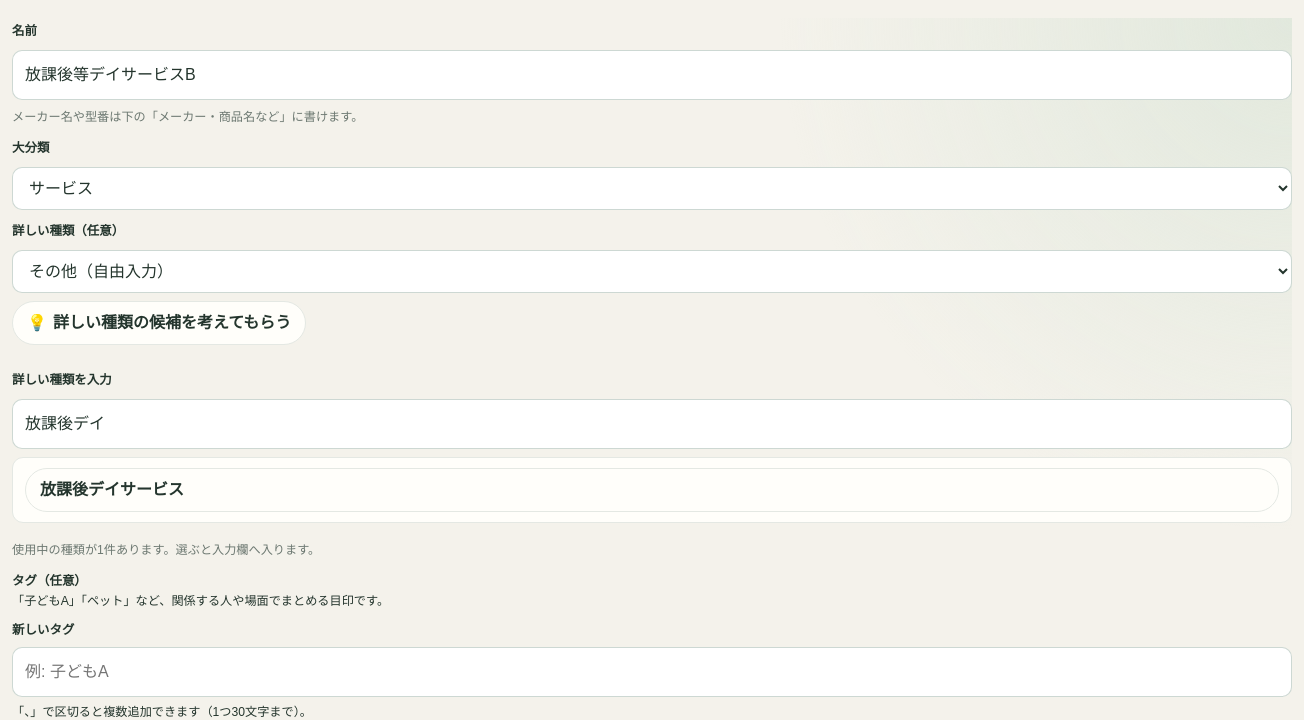
登録・編集の自由入力(詳しい種類)候補(Issue #288) › 編集画面では保存済みの自由入力を初期値にしたまま、候補から選び直せる
The image size is (1304, 720).
Check: the field labelled "詳しい種類を入力" holds "放課後デイ", box left=12, top=399, right=1292, bottom=448
Click the button "放課後デイサービス": {"x": 112, "y": 489} left=25, top=468, right=1279, bottom=512
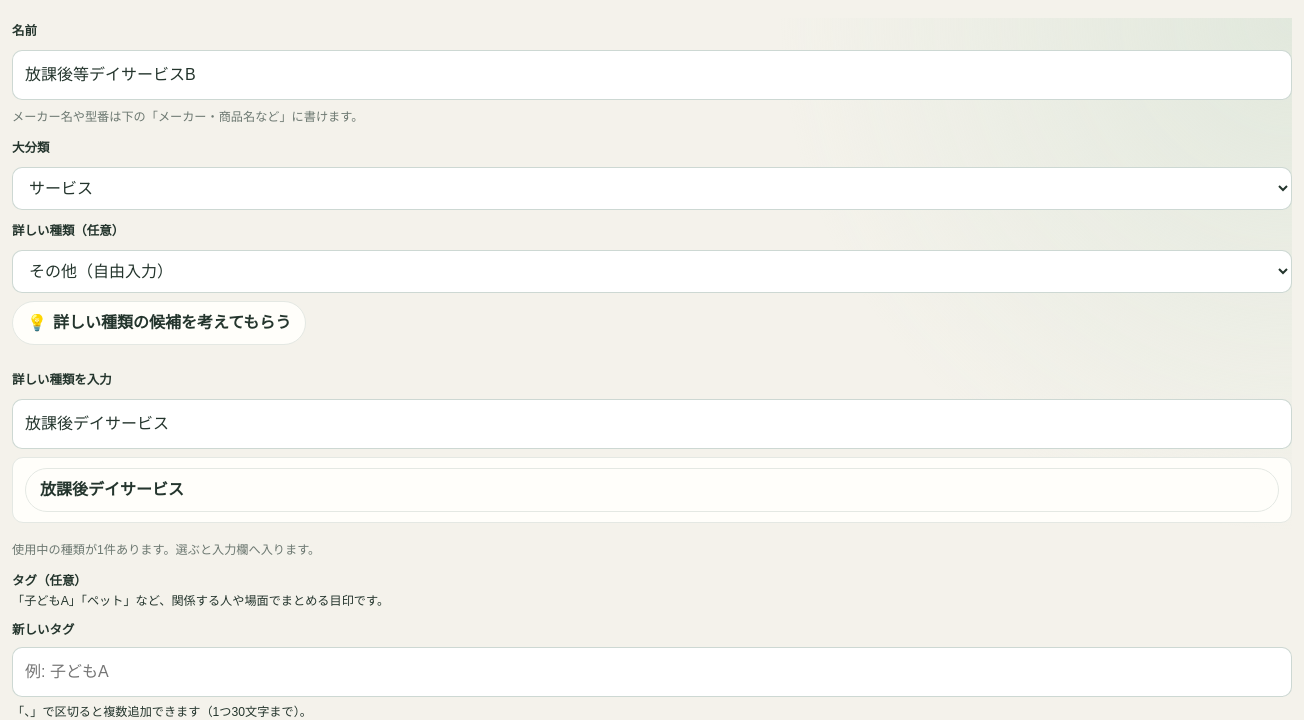
Check: the field labelled "詳しい種類を入力" holds "放課後デイサービス", box left=12, top=399, right=1292, bottom=448
